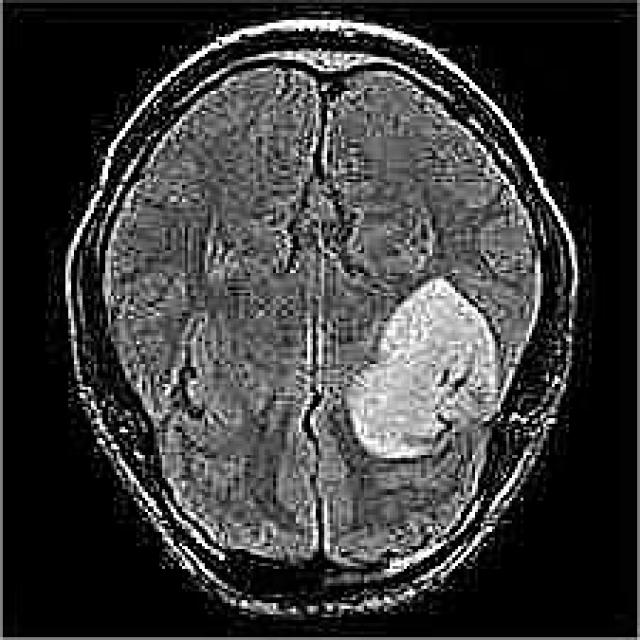Tumor-Cell: (355, 268, 499, 456)
